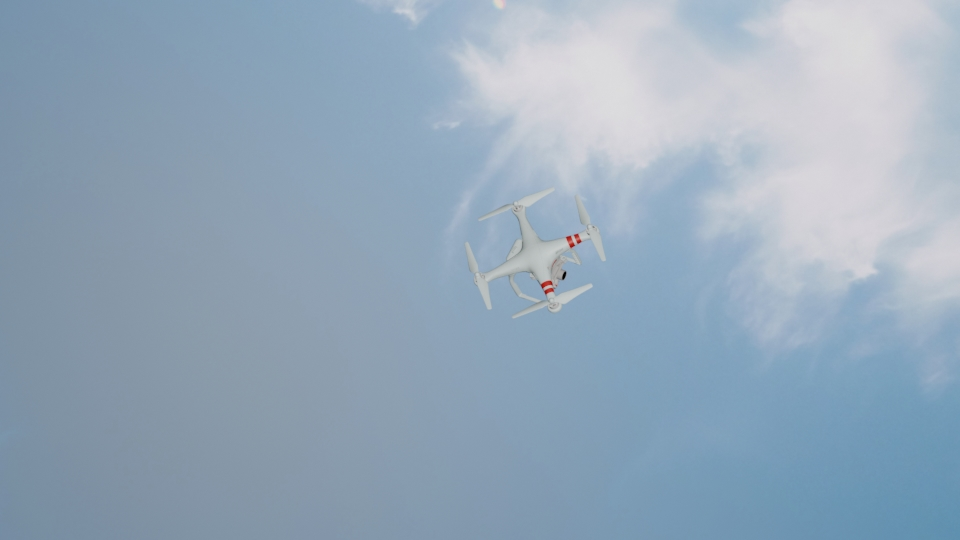drone: (462, 189, 596, 318)
